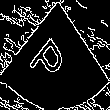P_NE: (32, 24, 78, 86)
